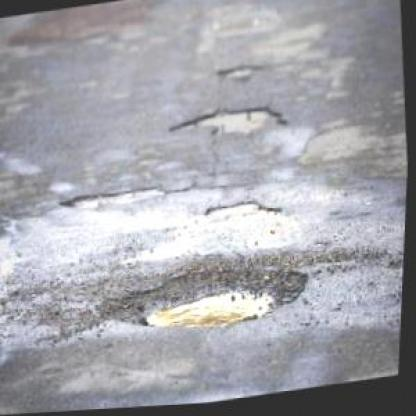pothole: (101, 252, 315, 344), (169, 103, 291, 147), (63, 180, 170, 211), (207, 198, 284, 226), (216, 62, 266, 83)
